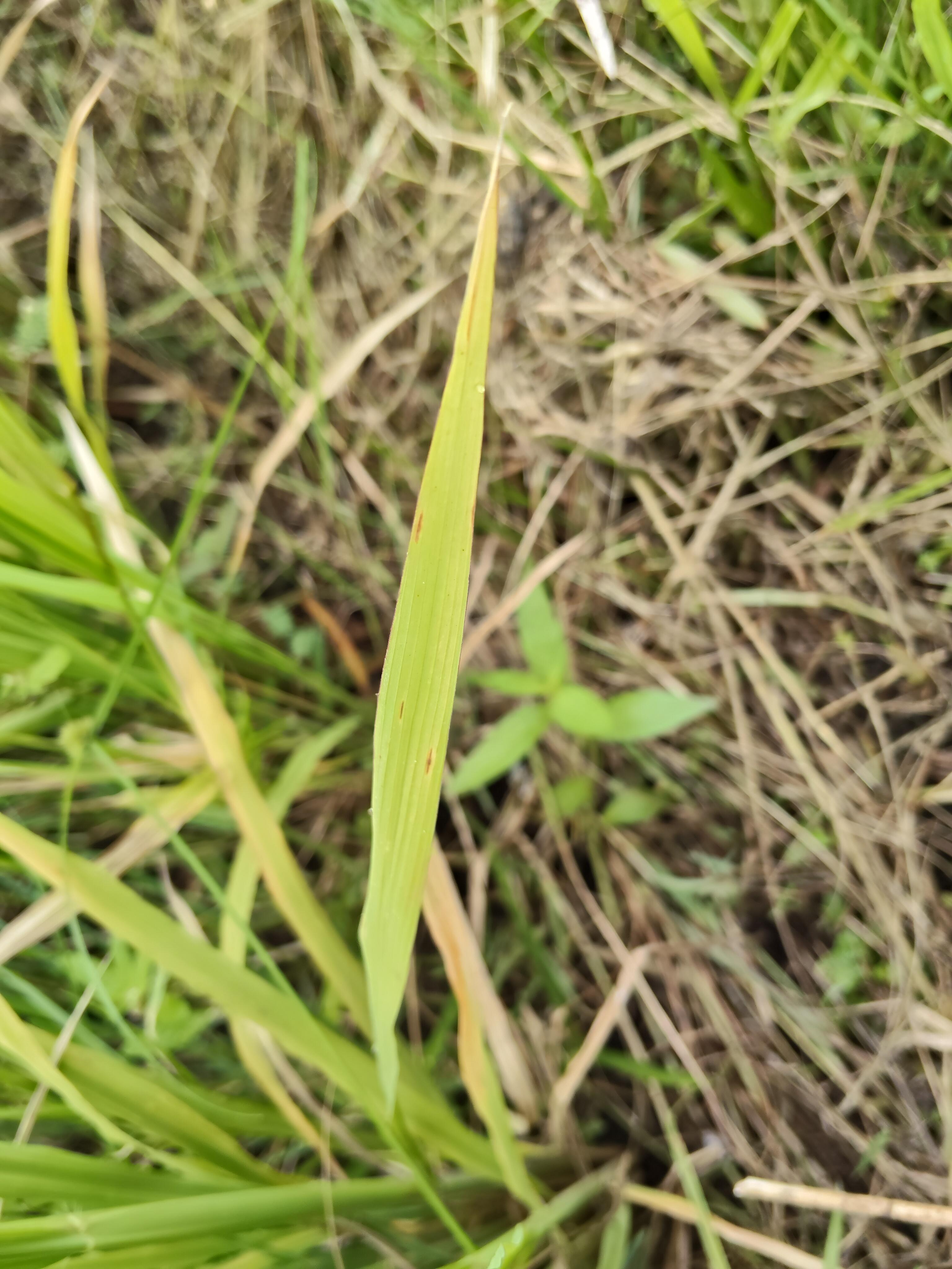NBS: (415, 511, 424, 541), (425, 748, 434, 774), (471, 500, 476, 533), (399, 701, 405, 719)
